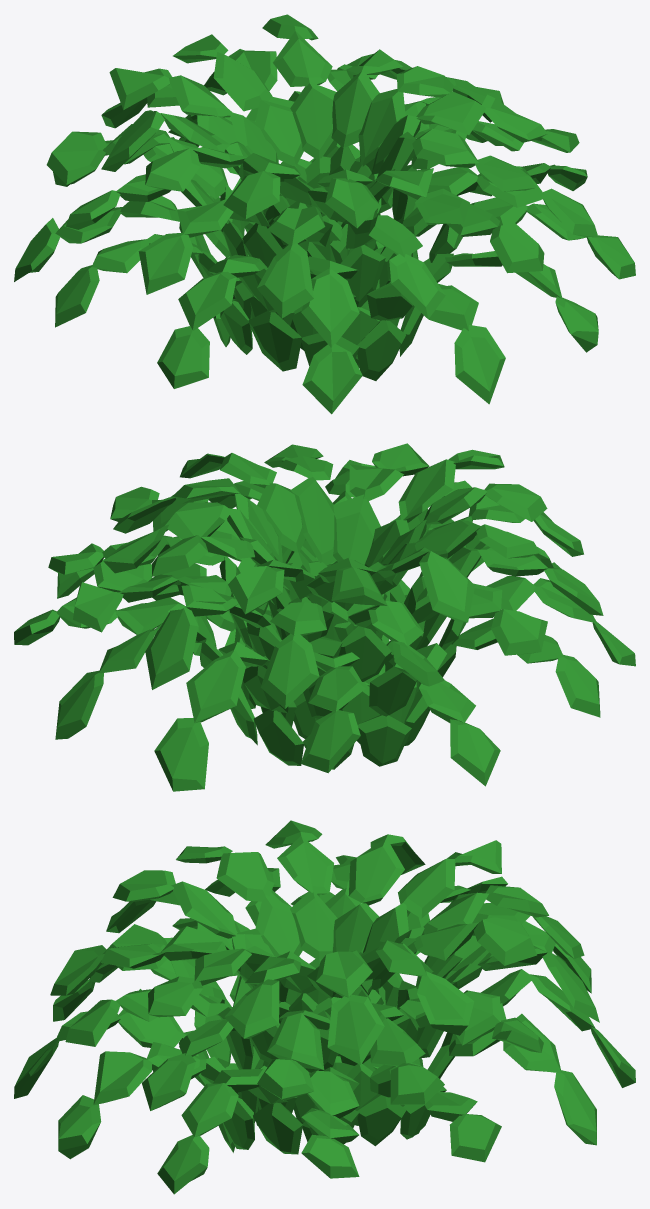
File: Xmas.FBX
3 renders of one model, top to bottom at view 1: azimuth 30°, elevation 25°; view 2: azimuth 150°, elevation 25°; view 3: azimuth 270°, elevation 25°, orthographic.
Parts seen in each view (by area): view 1: Line030; view 2: Line030; view 3: Line030.
Boxes of the visible parts, left/top/right/bottom form: Line030: left=14, top=14, right=635, bottom=414; Line030: left=14, top=443, right=635, bottom=791; Line030: left=14, top=820, right=635, bottom=1194.
Size of the model in its own units: 136 by 61.7 by 136.
